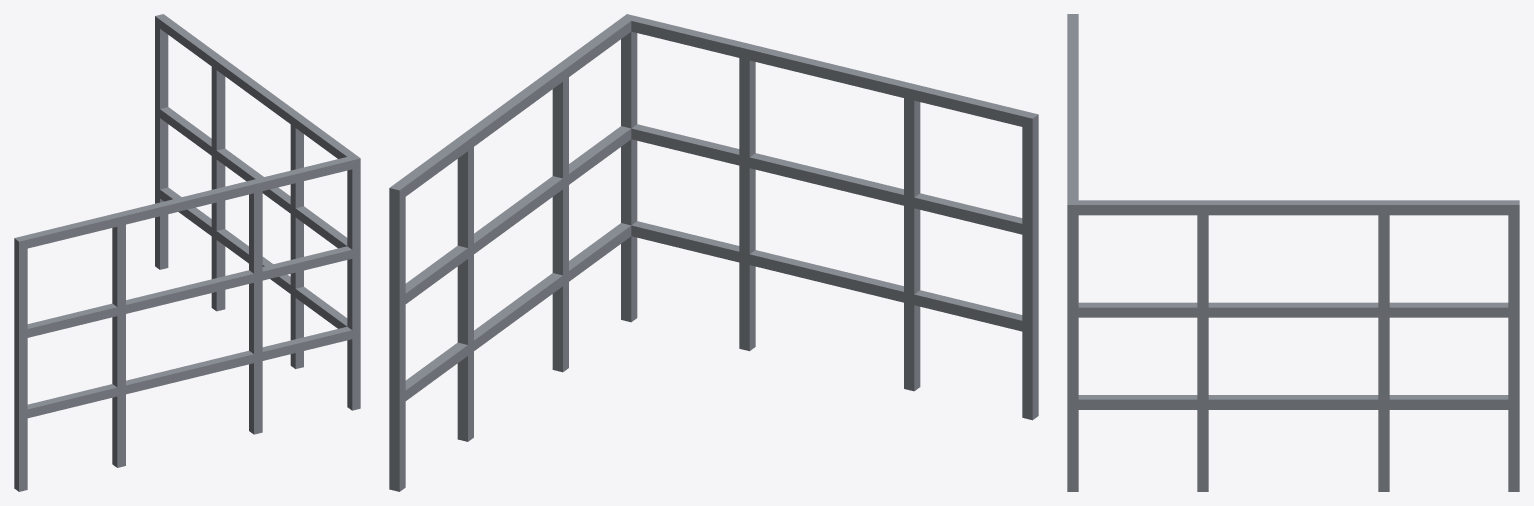
File: SM_fence_011_B.glb
The picture shows the model from 3 angles, left to right: view 1: azimuth 30°, elevation 25°; view 2: azimuth 150°, elevation 25°; view 3: azimuth 270°, elevation 25°; orthographic projection. The views are drawn at different scales.
Visible parts, largest first — view 1: SM_fence_011_B; view 2: SM_fence_011_B; view 3: SM_fence_011_B.
Part boxes in pixels (x1,y1,x2,y2): SM_fence_011_B: (14,14,360,491); SM_fence_011_B: (389,14,1038,491); SM_fence_011_B: (1067,14,1519,491).
Bounding box in the file's own units: 2 × 1.4 × 2.
1 material, 1 textured.
